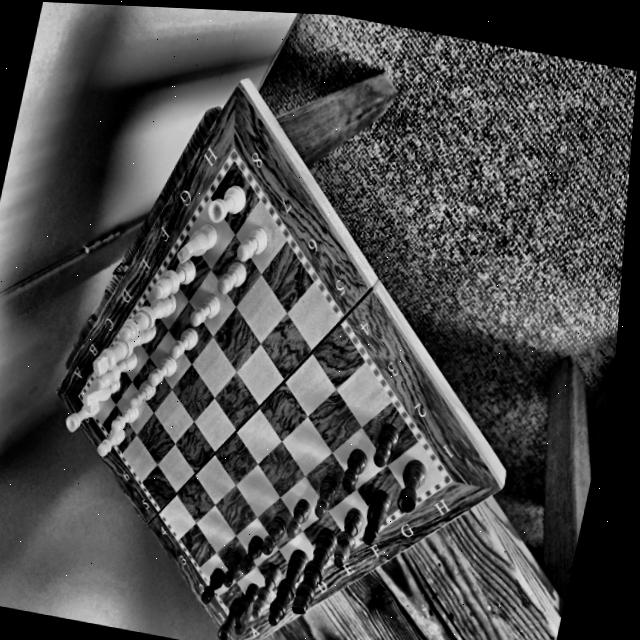black-bishop: (247, 555, 284, 625), (328, 500, 366, 568)
black-king: (287, 523, 338, 620)
black-knight: (358, 486, 393, 549), (230, 579, 260, 634)
black-pawn: (336, 445, 371, 492), (369, 421, 399, 468), (238, 528, 265, 577), (308, 476, 337, 521), (284, 494, 313, 539), (198, 562, 226, 608), (218, 548, 242, 593), (263, 514, 286, 557)
black-queen: (267, 544, 309, 631)
black-rook: (391, 452, 430, 517), (214, 598, 243, 640)
white-bishop: (145, 252, 198, 307), (88, 343, 139, 396)
white-king: (88, 311, 157, 387)
white-knight: (172, 216, 220, 270), (76, 369, 121, 411)
white-pawn: (232, 224, 271, 264), (185, 289, 223, 330), (166, 321, 200, 365), (146, 350, 179, 393), (93, 422, 128, 462), (214, 257, 248, 297), (125, 375, 157, 412), (109, 399, 140, 435)
white-queen: (118, 284, 178, 352)
white-rook: (203, 176, 248, 229), (61, 394, 100, 440)
